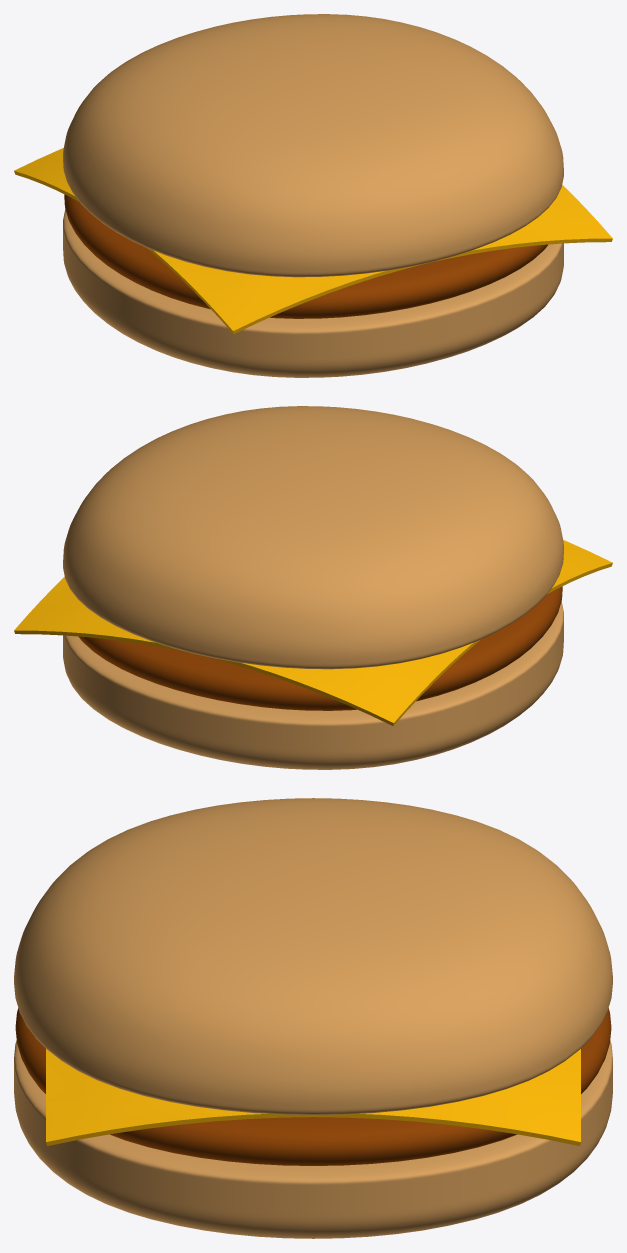
Rendered from hamburger.glb.
The picture shows the model from 3 angles, top to bottom: view 1: azimuth 30°, elevation 25°; view 2: azimuth 150°, elevation 25°; view 3: azimuth 270°, elevation 25°; orthographic projection. The views are drawn at different scales.
Parts seen in each view (by area): view 1: Cube.002, Cube, Cube.001, Plane; view 2: Cube.002, Cube, Cube.001, Plane; view 3: Cube.002, Cube, Cube.001, Plane.
Part boxes in pixels (x1=…): Cube.002: x1=63, y1=14, x2=563, y2=277; Cube: x1=63, y1=209, x2=563, y2=377; Cube.001: x1=64, y1=194, x2=547, y2=318; Plane: x1=14, y1=148, x2=612, y2=334; Cube.002: x1=63, y1=406, x2=563, y2=669; Cube: x1=63, y1=601, x2=563, y2=769; Cube.001: x1=79, y1=586, x2=562, y2=710; Plane: x1=14, y1=540, x2=612, y2=726; Cube.002: x1=14, y1=798, x2=612, y2=1115; Cube: x1=14, y1=1041, x2=612, y2=1238; Cube.001: x1=15, y1=1008, x2=611, y2=1165; Plane: x1=46, y1=1049, x2=580, y2=1145.
Bounding box in the file's own units: 9.17 × 4.72 × 9.17.
